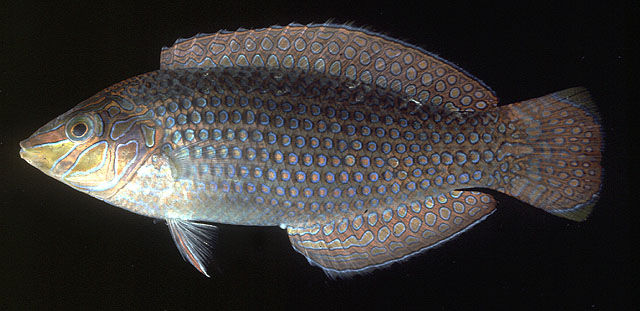fish: (18, 19, 605, 278)
